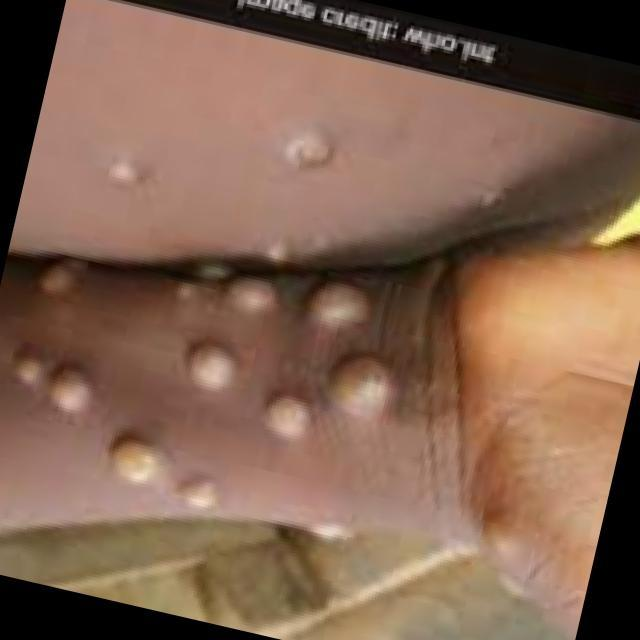Eczema: (25, 268, 397, 514), (91, 136, 333, 187)
